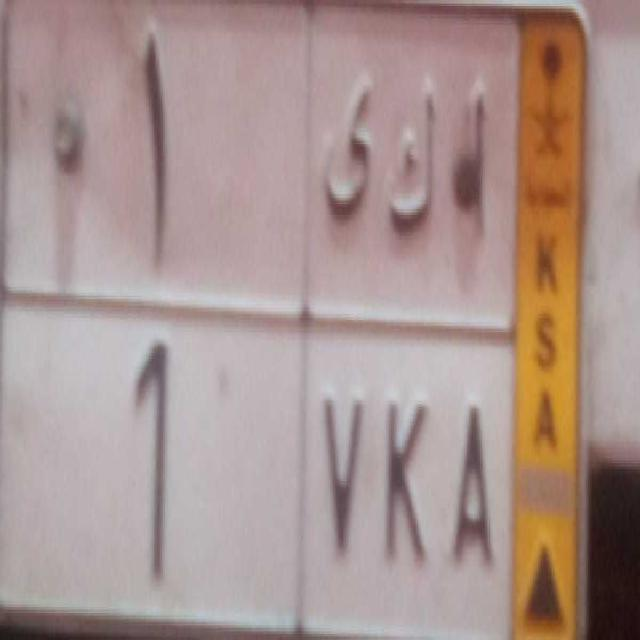license_plate: (0, 287, 514, 640)
